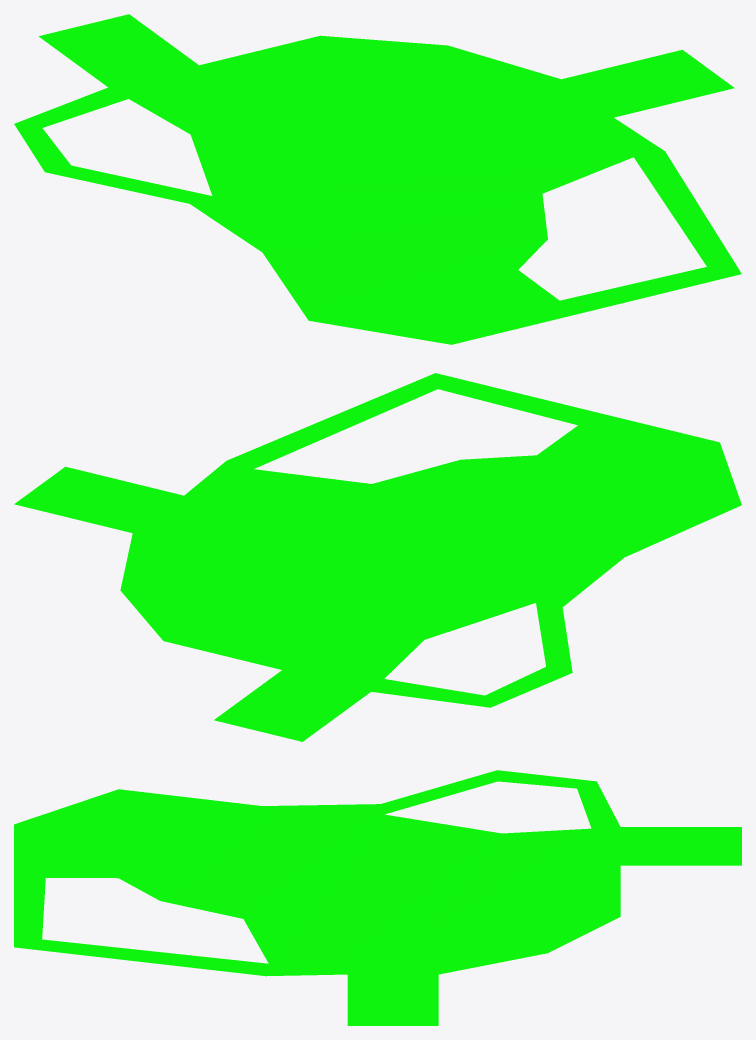
Rendered from s04a_lb3-floor.glb.
The picture shows the model from 3 angles, top to bottom: view 1: azimuth 30°, elevation 25°; view 2: azimuth 150°, elevation 25°; view 3: azimuth 270°, elevation 25°; orthographic projection. The views are drawn at different scales.
Parts seen in each view (by area): view 1: collision_floor-colonly; view 2: collision_floor-colonly; view 3: collision_floor-colonly.
Boxes of the visible parts, x1=… form: collision_floor-colonly: x1=14, y1=14, x2=741, y2=344; collision_floor-colonly: x1=14, y1=373, x2=741, y2=741; collision_floor-colonly: x1=14, y1=770, x2=741, y2=1025.
Bounding box in the file's own units: 39.88 × 0.0938 × 48.
